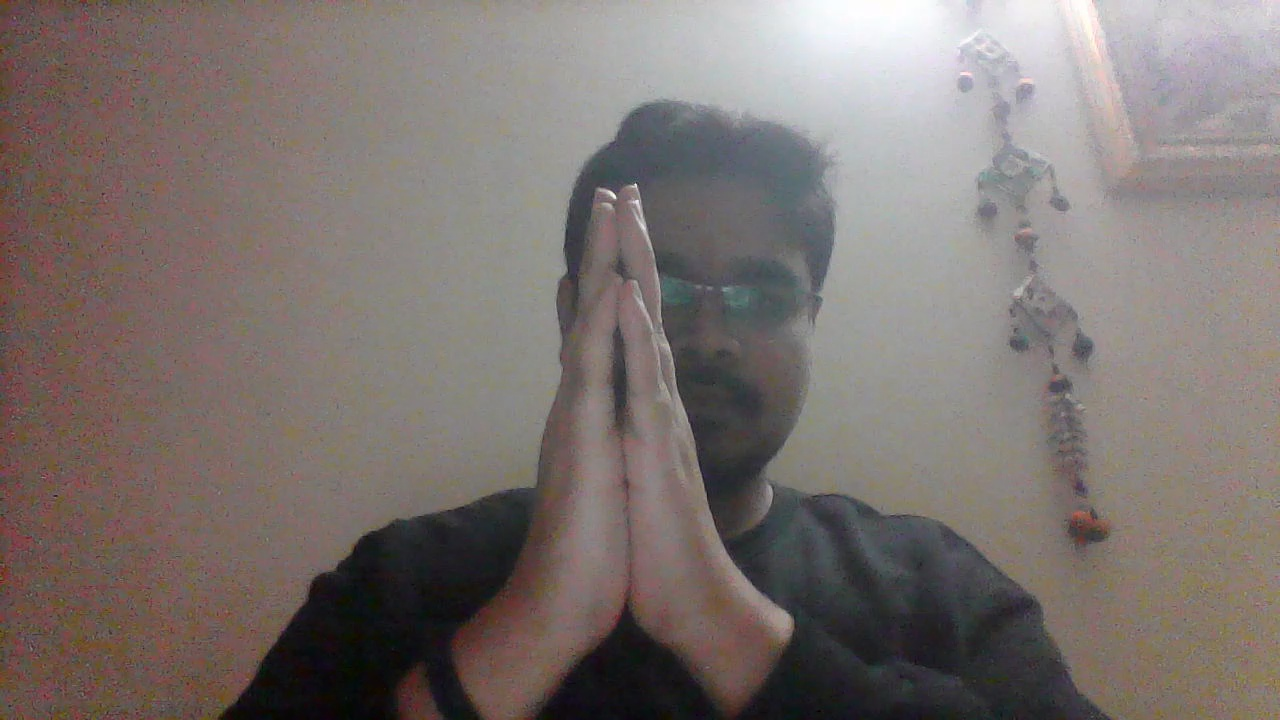Namaste: (489, 179, 758, 688)
